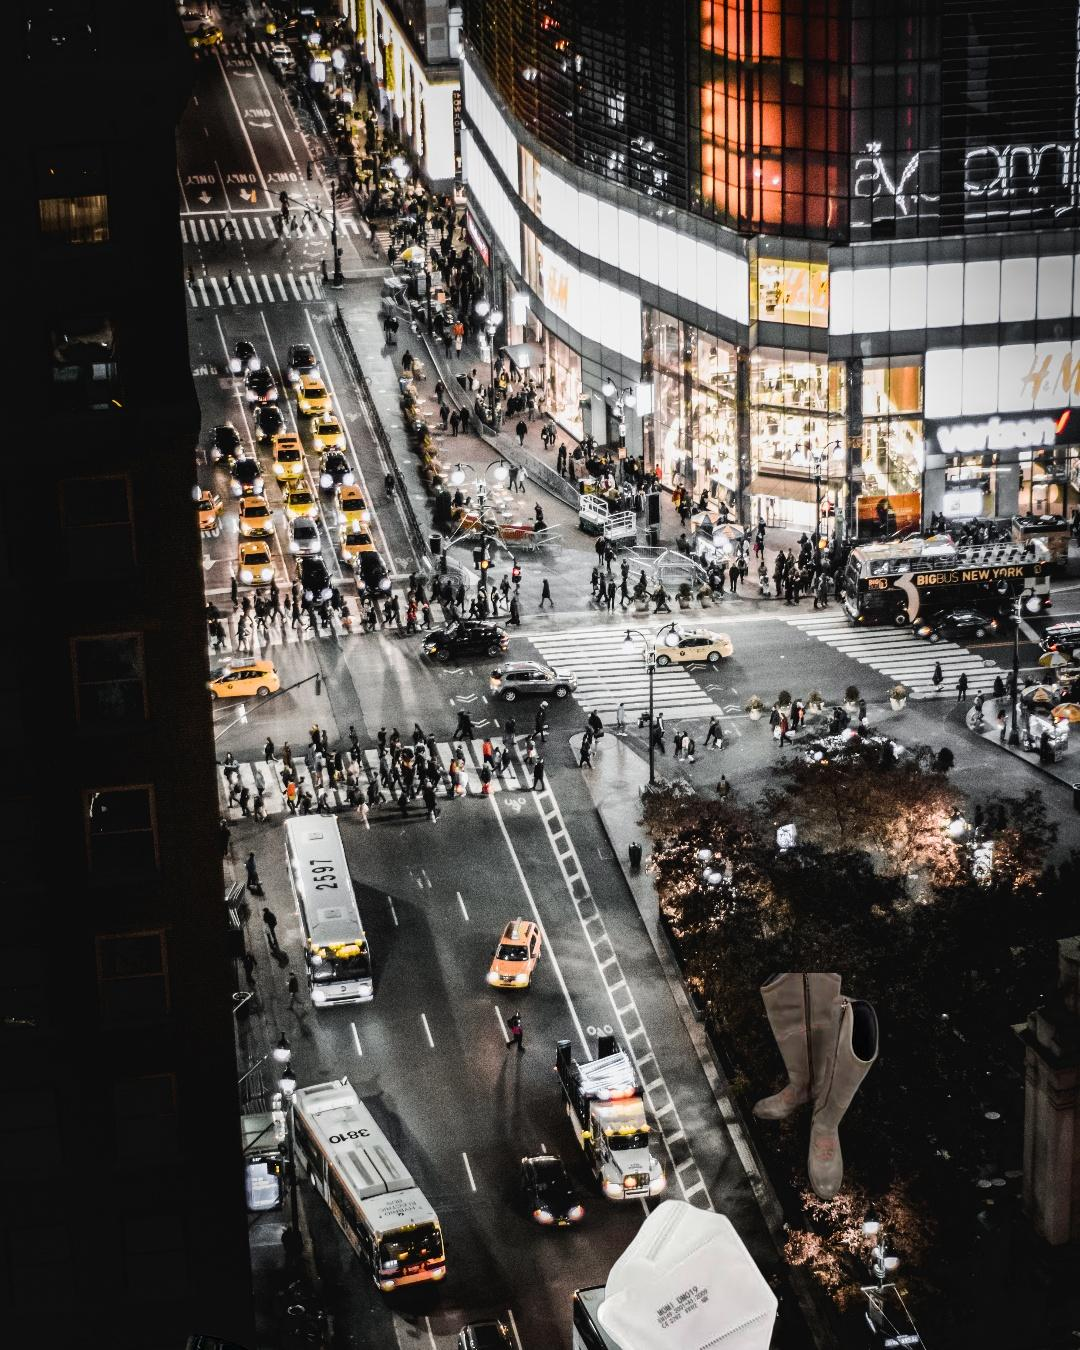glass: (151, 1328, 256, 1350)
shoes: (750, 973, 882, 1203)
trash: (588, 1195, 781, 1350)
